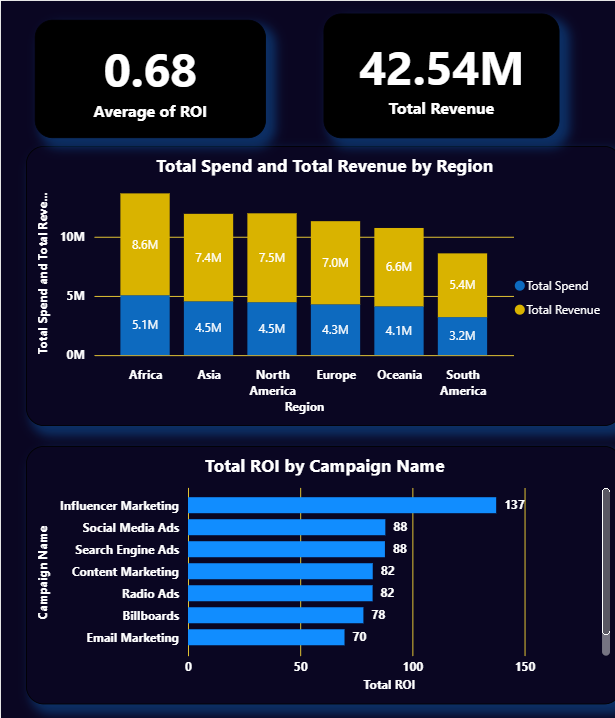

Layout of this report page (visuals, bound fields, positions):
{"tool":"powerbi","page":{"name":"Campaign Performance Overview","canvas":[1280,720],"ordinal":0},"visuals":[{"type":"columnChart","fields":{"Y":["marketing campaign performance.Total Spend","marketing campaign performance.Total Revenue"],"Category":["marketing campaign performance.Region"]},"box":[25,145.4,596,280.1],"z":0},{"type":"lineClusteredColumnComboChart","fields":{"Category":["marketing campaign details.Campaign Name"],"Y":["marketing campaign performance.Total Spend"],"Y2":["Avg(marketing campaign performance.ROI)"]},"box":[640.1,145.4,625.8,280.1],"z":1},{"type":"barChart","fields":{"Category":["marketing campaign details.Campaign Name"],"Y":["marketing campaign details.Total ROI"]},"box":[25,444.6,596,258.7],"z":2},{"type":"pieChart","title":"Total Campaigns by Camaign Type","fields":{"Category":["marketing campaign details.Camaign Type"],"Y":["CountNonNull(marketing campaign details.Total Campaigns)"]},"box":[640.1,444.6,292,247.9],"z":3},{"type":"gauge","fields":{"TargetValue":["Avg(marketing campaign performance.ROI)"],"Y":["marketing campaign details.Total ROI"]},"box":[953.6,444.6,312.3,247.9],"z":4},{"type":"card","fields":{"Values":["Avg(marketing campaign performance.ROI)"]},"box":[33.4,19.1,231.3,118],"z":5},{"type":"card","fields":{"Values":["marketing campaign performance.Total Revenue"]},"box":[323,11.9,236,125.2],"z":6},{"type":"card","fields":{"Values":["marketing campaign performance.Total Spend"]},"box":[640.1,19.1,232.4,118],"z":7},{"type":"card","fields":{"Values":["marketing campaign details.Best Campaign"]},"box":[911.9,20.3,344.5,125.2],"z":8}]}

Visuals, with their boxes on the page's 1280x720 design canvas (x1, y1, x2, y2). These are canvas units, not pixel positions in the 615x718 screenshot, which may show the page scaled, cropped or inside an application window:
columnChart - marketing campaign performance.Total Spend x marketing campaign performance.Total Revenue: <box>25,145,621,426</box>
lineClusteredColumnComboChart - marketing campaign details.Campaign Name x marketing campaign performance.Total Spend: <box>640,145,1266,426</box>
barChart - marketing campaign details.Campaign Name x marketing campaign details.Total ROI: <box>25,445,621,703</box>
"Total Campaigns by Camaign Type" pieChart: <box>640,445,932,692</box>
gauge - Avg(marketing campaign performance.ROI) x marketing campaign details.Total ROI: <box>954,445,1266,692</box>
card - Avg(marketing campaign performance.ROI): <box>33,19,265,137</box>
card - marketing campaign performance.Total Revenue: <box>323,12,559,137</box>
card - marketing campaign performance.Total Spend: <box>640,19,872,137</box>
card - marketing campaign details.Best Campaign: <box>912,20,1256,146</box>
